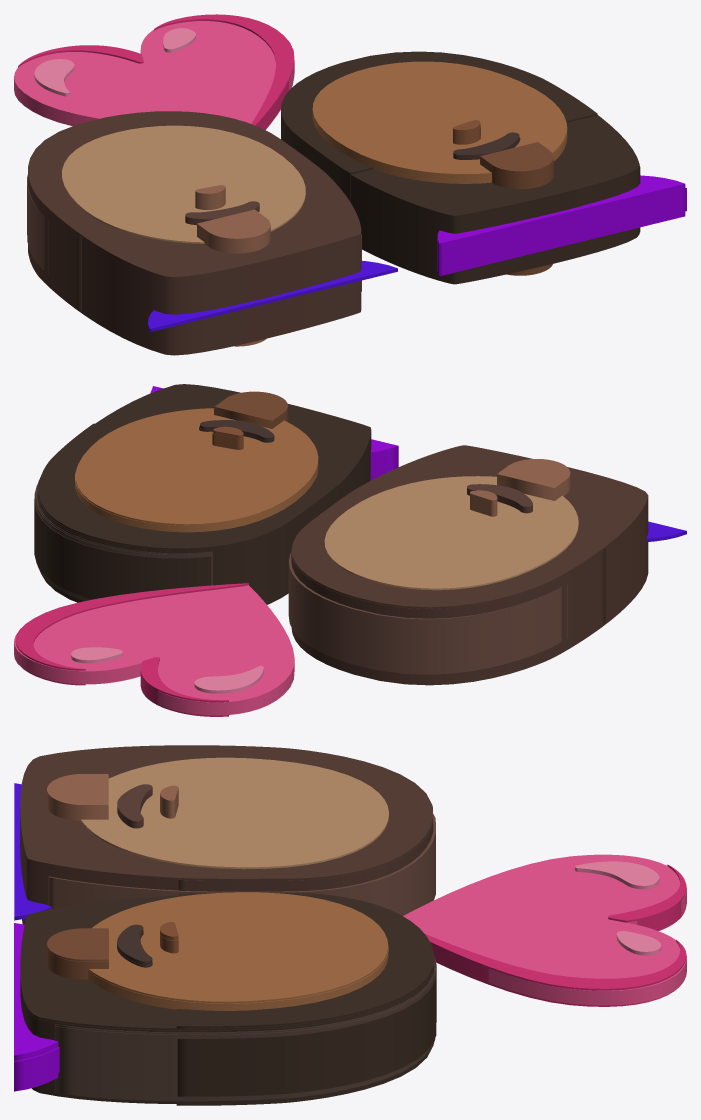
The model's file is emoji_u1f469_1f3fd_200d_2764_200d_1f469_1f3fe.glb.
3 renders of one model, top to bottom at view 1: azimuth 30°, elevation 25°; view 2: azimuth 150°, elevation 25°; view 3: azimuth 270°, elevation 25°, orthographic. The views are drawn at different scales.
Visible parts, largest first — view 1: emoji_u1f469_1f3fd_200d_2764_200d_1f469_1f3fe; view 2: emoji_u1f469_1f3fd_200d_2764_200d_1f469_1f3fe; view 3: emoji_u1f469_1f3fd_200d_2764_200d_1f469_1f3fe.
Part boxes in pixels (x1,y1,x2,y2): emoji_u1f469_1f3fd_200d_2764_200d_1f469_1f3fe: (14, 14, 686, 355); emoji_u1f469_1f3fd_200d_2764_200d_1f469_1f3fe: (14, 384, 686, 716); emoji_u1f469_1f3fd_200d_2764_200d_1f469_1f3fe: (14, 745, 686, 1105).
Size of the model in its own units: 0.0345 by 0.0072 by 0.0338.
